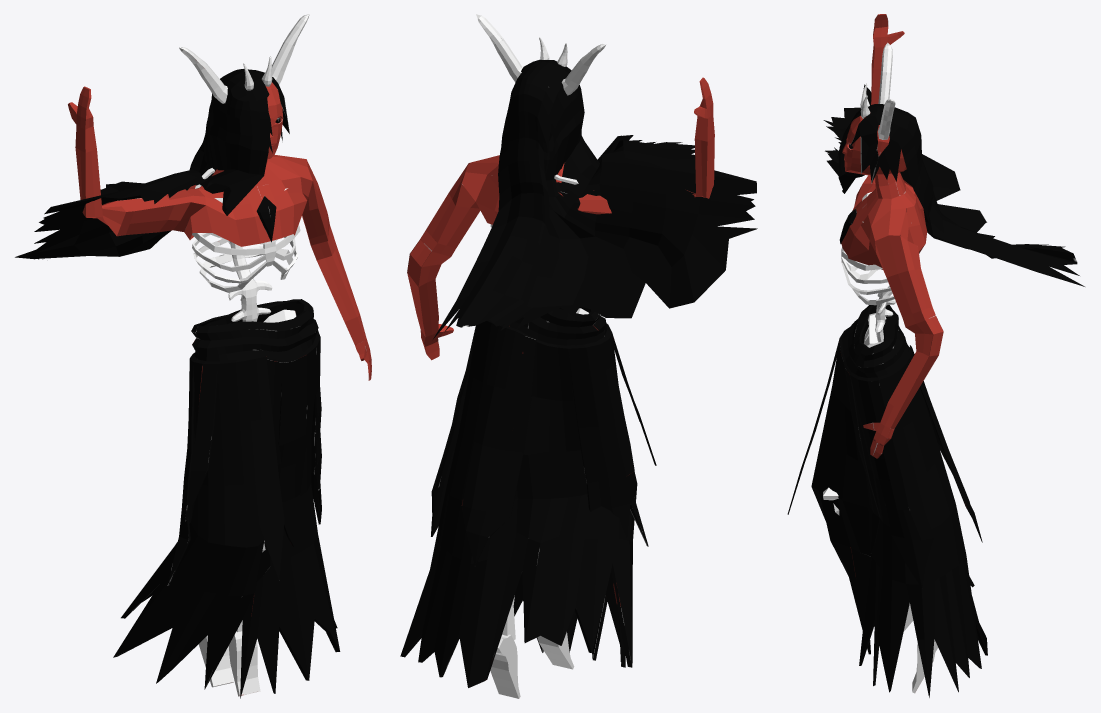
File: cursedqueenattack_12.fbx
The picture shows the model from 3 angles, left to right: view 1: azimuth 30°, elevation 25°; view 2: azimuth 150°, elevation 25°; view 3: azimuth 270°, elevation 25°; orthographic projection. The views are drawn at different scales.
Visible parts, largest first — view 1: cursed_queen; view 2: cursed_queen; view 3: cursed_queen.
Boxes of the visible parts, x1,y1,x2,y2 form: cursed_queen: [15, 14, 371, 698]; cursed_queen: [400, 14, 757, 698]; cursed_queen: [787, 14, 1084, 697].
Bounding box in the file's own units: 148 × 281 × 125.
